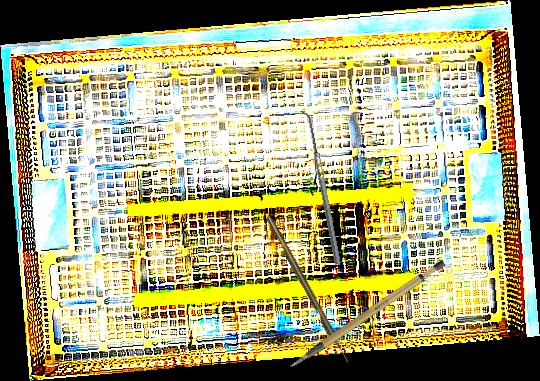Hook Surgical: (265, 214, 351, 367)
Scalpel Handle: (274, 256, 458, 370)
Spatula Surgical: (299, 109, 341, 266)
